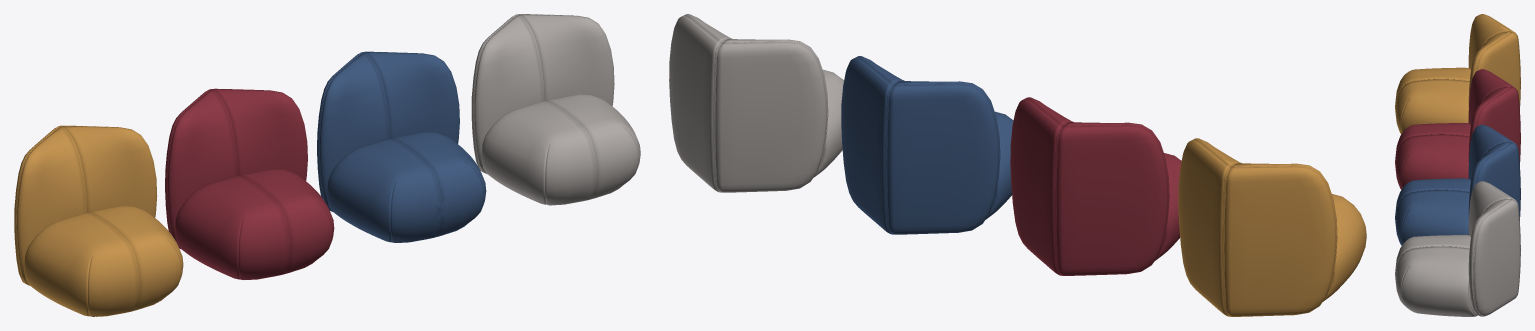
Rendered from bella-3d-lounge-chair-colourways.glb.
3 views of the same model, side by side, from view 1: azimuth 30°, elevation 25°; view 2: azimuth 150°, elevation 25°; view 3: azimuth 270°, elevation 25° (orthographic). The views are drawn at different scales.
Visible parts, largest first — view 1: lounge-chair-trio-part-2, lounge-chair-trio-part-1; view 2: lounge-chair-trio-part-2, lounge-chair-trio-part-1; view 3: lounge-chair-trio-part-2, lounge-chair-trio-part-1.
Boxes of the visible parts, <box> form: lounge-chair-trio-part-2: <box>14,51,486,316</box>; lounge-chair-trio-part-1: <box>92,14,640,316</box>; lounge-chair-trio-part-2: <box>841,56,1366,316</box>; lounge-chair-trio-part-1: <box>669,14,843,192</box>; lounge-chair-trio-part-2: <box>1395,14,1520,245</box>; lounge-chair-trio-part-1: <box>1395,181,1520,316</box>.
Size of the model in its own units: 3.45 by 0.7508 by 0.84.
3 materials, 3 textured.
